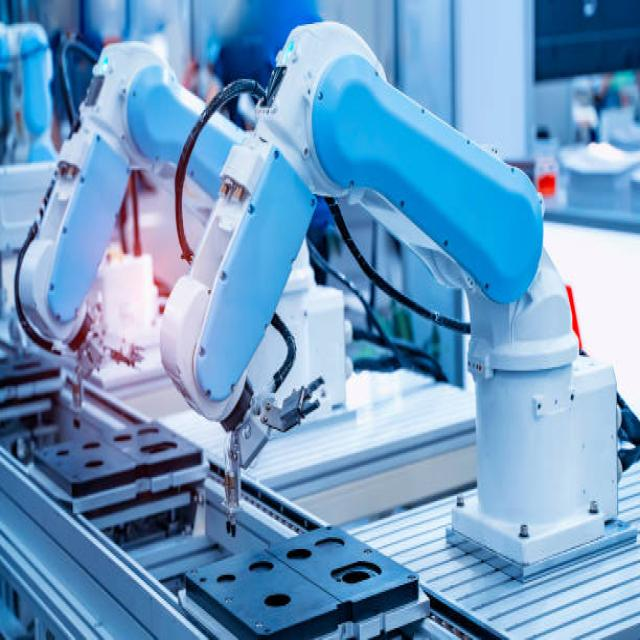Robotic-arm: (162, 16, 580, 430), (15, 29, 248, 346)
